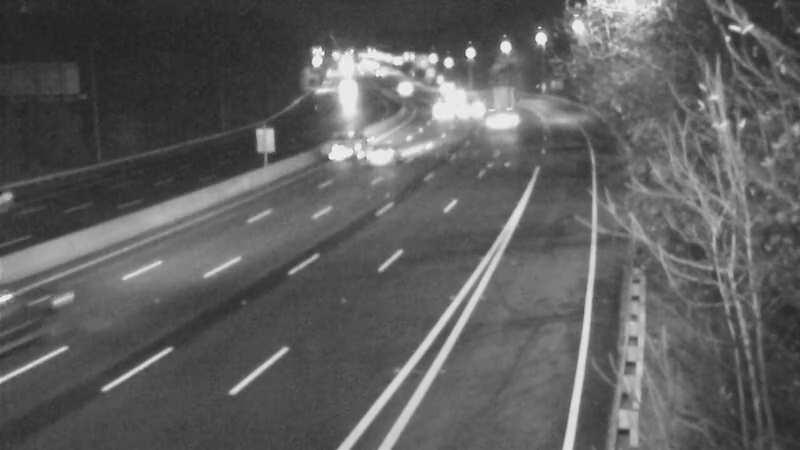vehicle: (1, 158, 63, 238), (416, 59, 466, 109), (378, 63, 428, 113), (430, 71, 480, 121), (413, 85, 463, 135), (445, 86, 495, 136), (478, 81, 528, 131), (362, 124, 412, 174), (316, 124, 366, 174)
